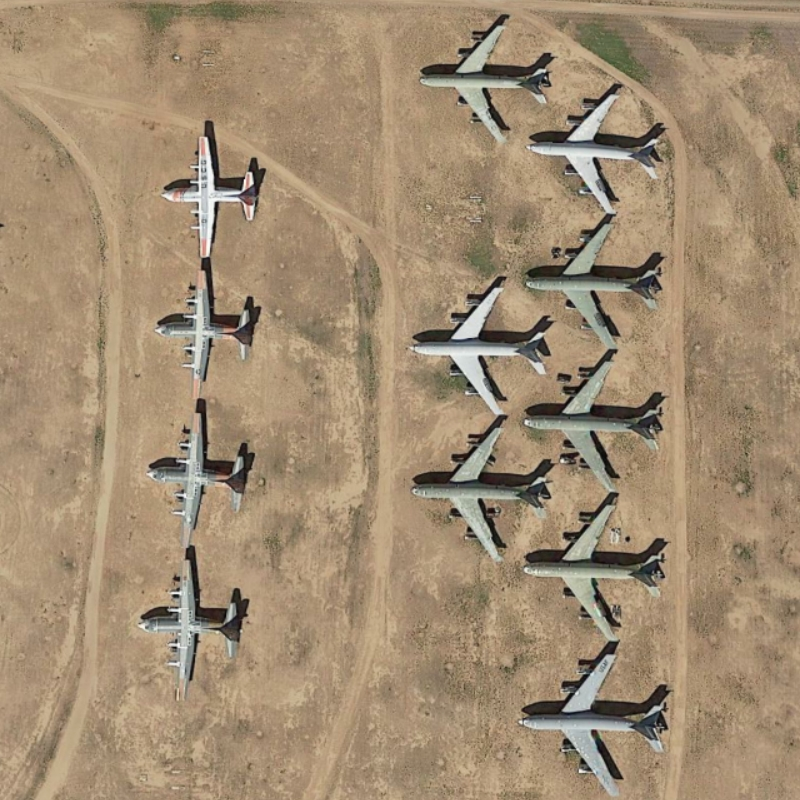A14: (511, 644, 679, 798), (388, 274, 563, 419), (522, 490, 671, 641), (403, 413, 548, 566), (526, 215, 685, 354), (520, 83, 677, 221), (518, 356, 676, 493), (400, 16, 559, 148)
A2: (143, 406, 255, 555), (132, 556, 249, 695), (150, 266, 266, 406), (156, 126, 273, 262)
